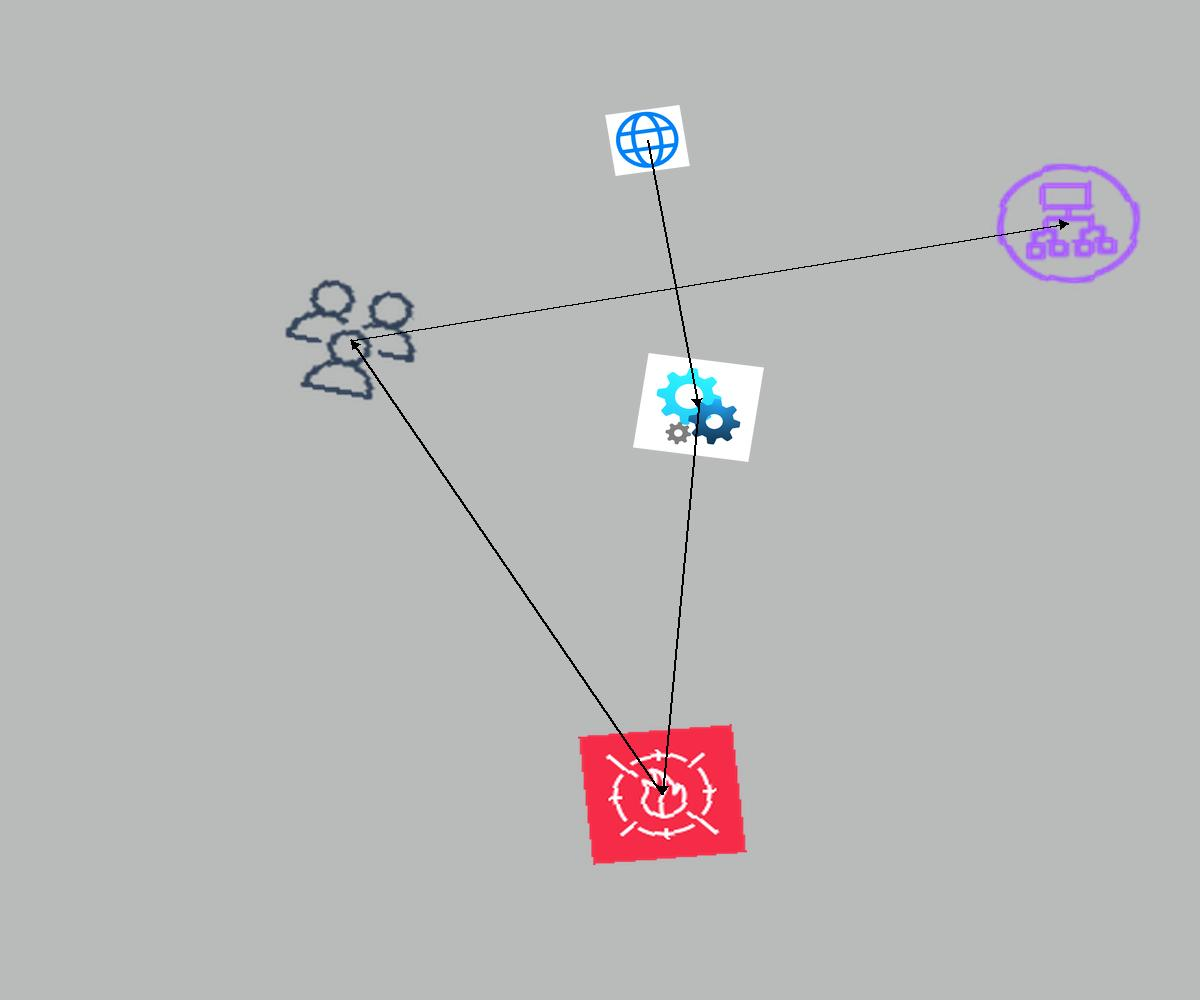AWS-Res_Elastic-Load-Balancing_Application-Load-Balancer: (984, 153, 1153, 294)
AWS-Res_Users: (265, 268, 438, 412)
AWS-WAF: (578, 724, 747, 865)
Azure_api: (633, 353, 764, 462)
Azure_http: (605, 105, 690, 176)
